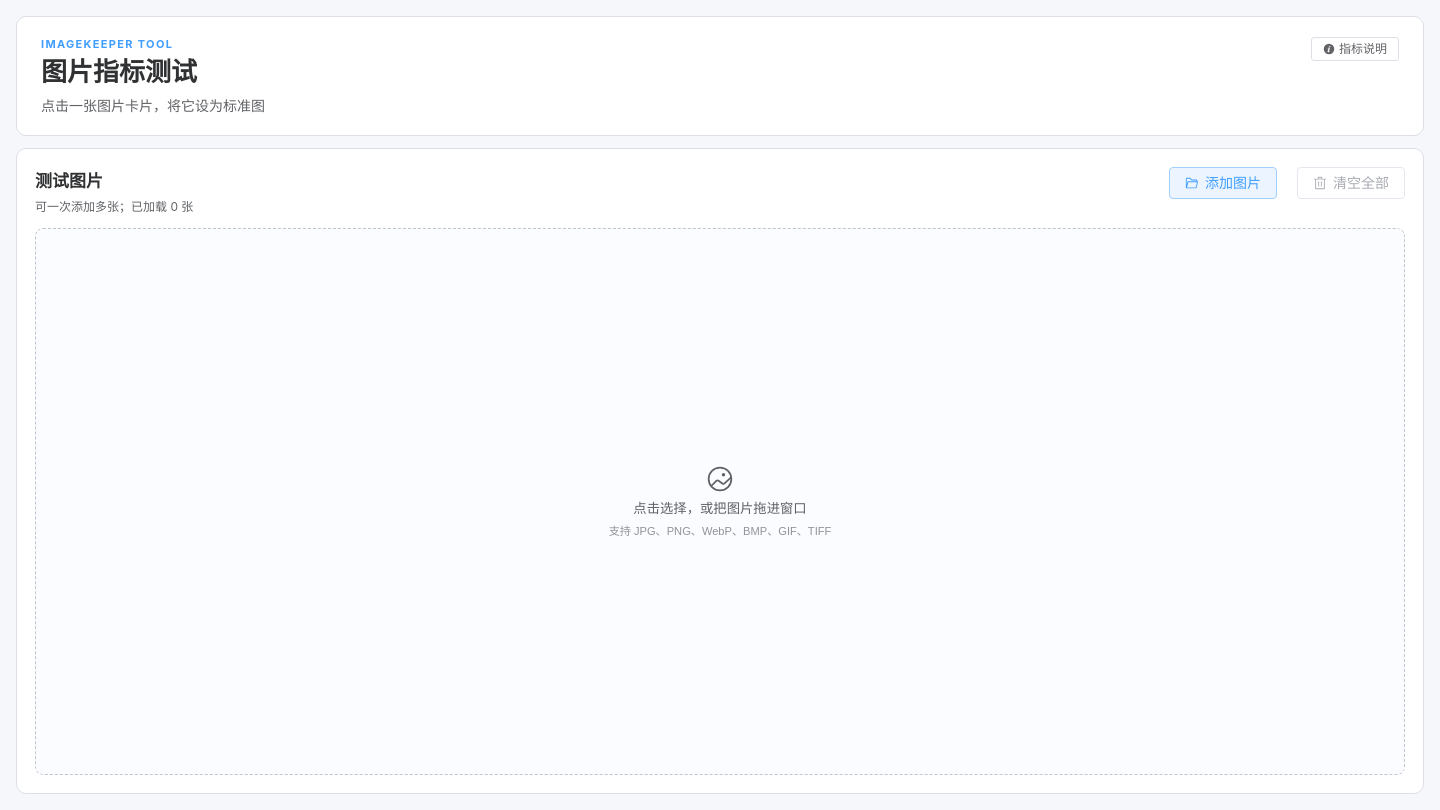
Test: ImageMetricsTestView › explains how to interpret and combine both metrics without overclaiming
Click the button "指标说明". click: x=1355, y=49
box: [1311, 37, 1399, 61]
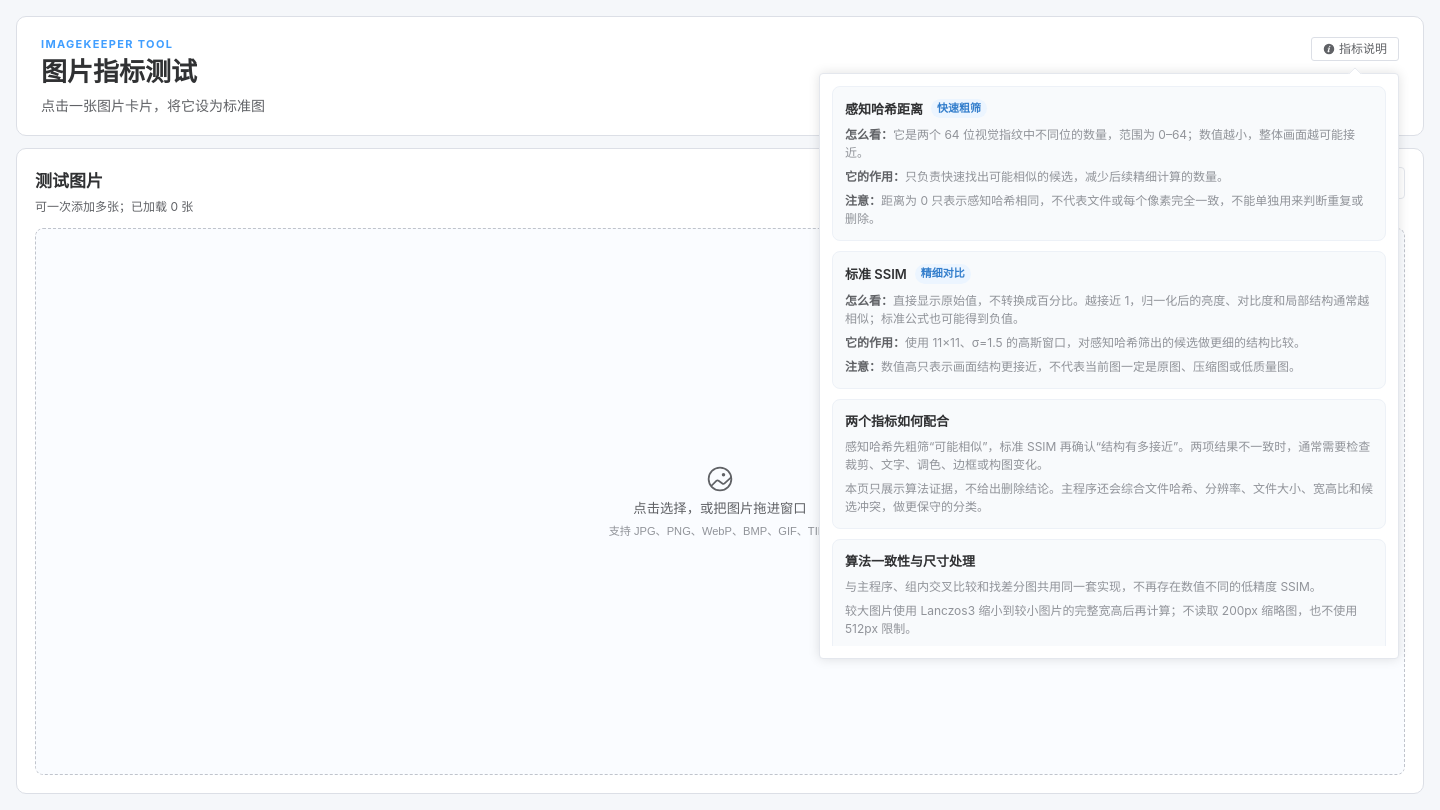
Check: the text "快速粗筛" is shown, box [931, 99, 987, 118]
Check: the text "只负责快速找出可能相似的候选" is shown, box [905, 169, 1229, 184]
Check: the text "不能单独用来判断重复或删除" is shown, box [845, 193, 1363, 226]
